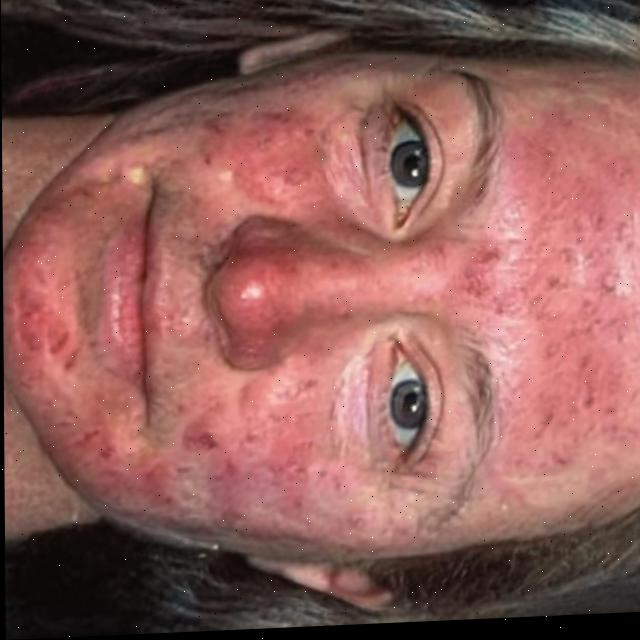Rosacea: (39, 402, 358, 540), (525, 100, 640, 453), (116, 101, 328, 219), (2, 196, 86, 405), (236, 247, 337, 349)
